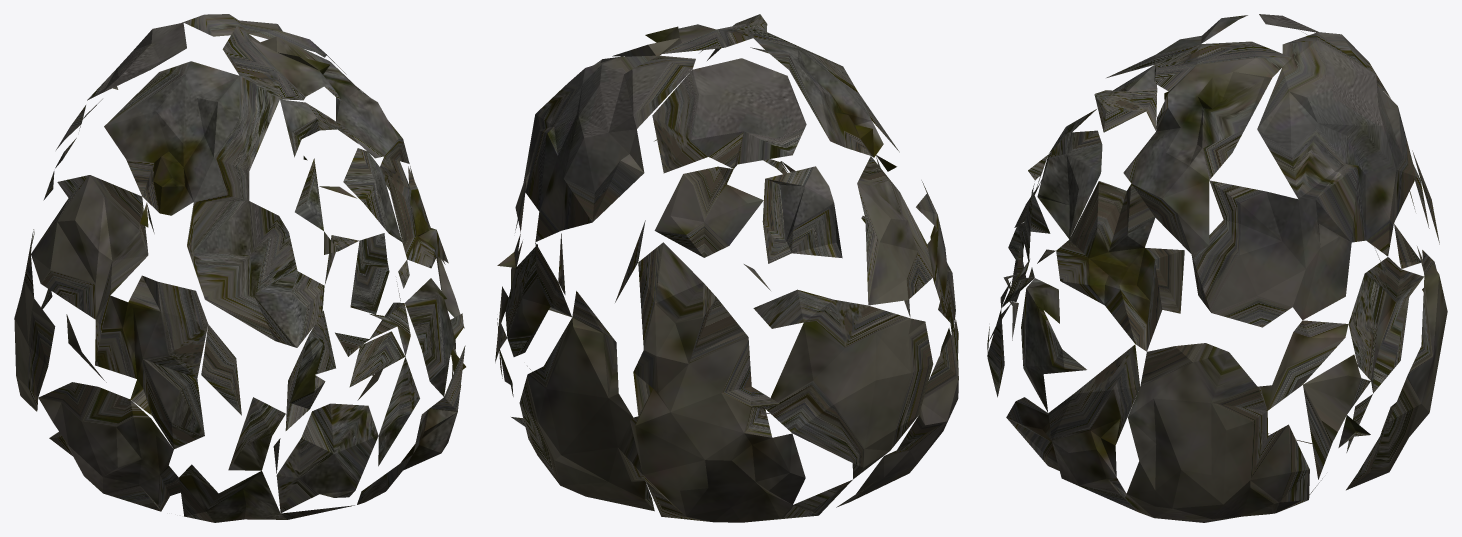
The model's file is nat_rock_a_LOD1.glb.
The picture shows the model from 3 angles, left to right: view 1: azimuth 30°, elevation 25°; view 2: azimuth 150°, elevation 25°; view 3: azimuth 270°, elevation 25°; orthographic projection. The views are drawn at different scales.
Parts seen in each view (by area): view 1: geometry_0; view 2: geometry_0; view 3: geometry_0.
Part boxes in pixels (<box>): geometry_0: <box>14,14,465,522</box>; geometry_0: <box>495,14,958,522</box>; geometry_0: <box>987,14,1447,522</box>.
Bounding box in the file's own units: 1.48 × 1.5 × 1.49.
Materials: 1 (1 with a texture image).
